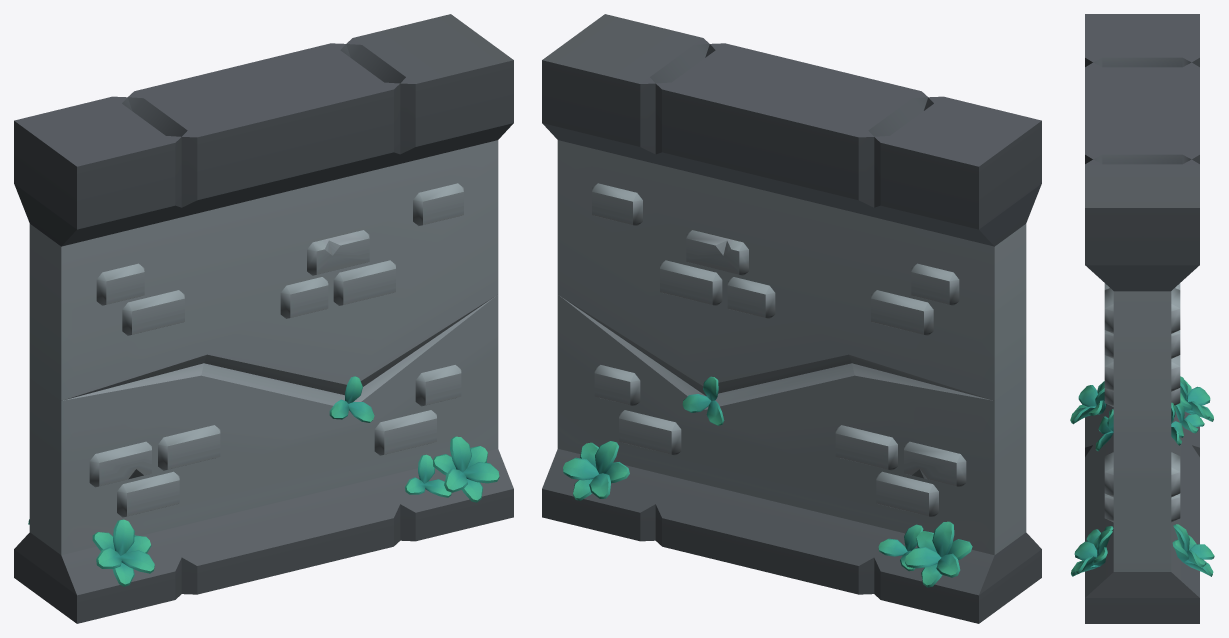
The model's file is wall_cracked.glb.
3 views of the same model, side by side, from view 1: azimuth 30°, elevation 25°; view 2: azimuth 150°, elevation 25°; view 3: azimuth 270°, elevation 25° (orthographic). The views are drawn at different scales.
Visible parts, largest first — view 1: wall_cracked; view 2: wall_cracked; view 3: wall_cracked.
Part boxes in pixels (box(x1,y1,x2,y2)): wall_cracked: box(14, 14, 513, 623); wall_cracked: box(542, 14, 1041, 623); wall_cracked: box(1070, 14, 1214, 623).
Size of the model in its own units: 4 by 4 by 1.26.
1 material, 1 textured.
